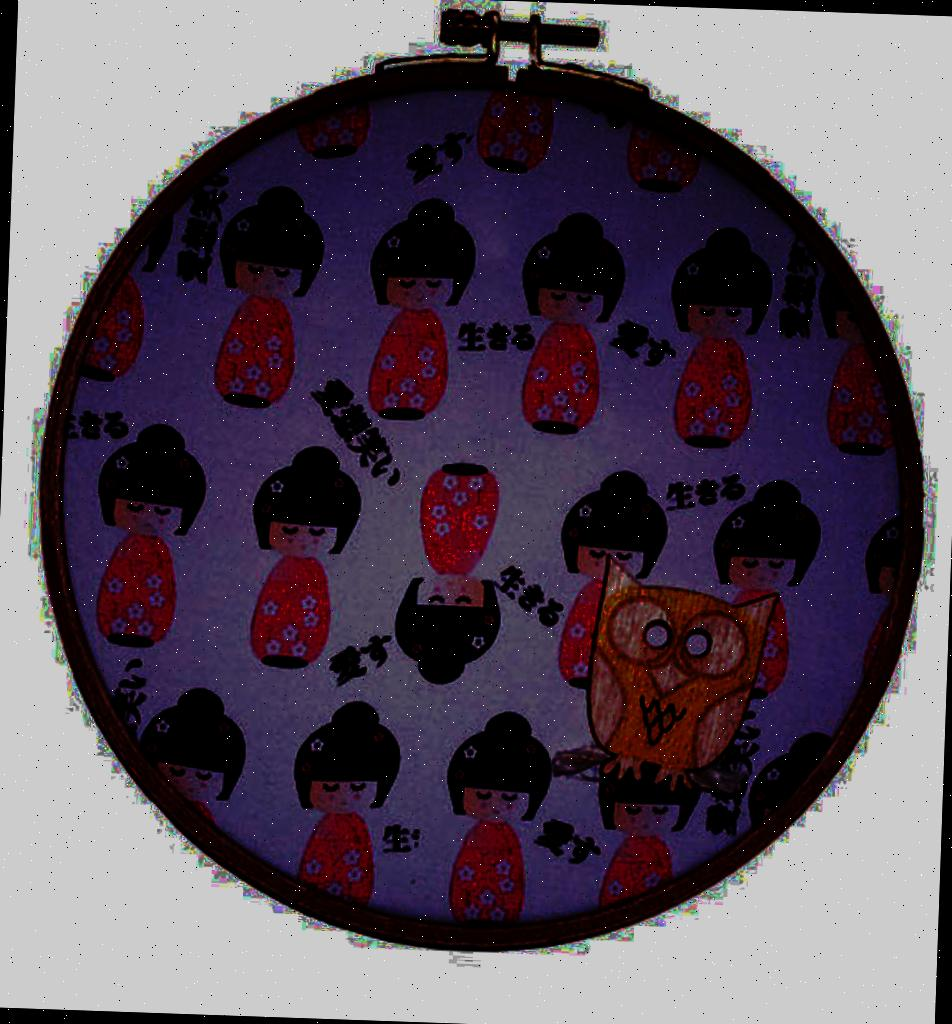Owl: (570, 552, 774, 798)
